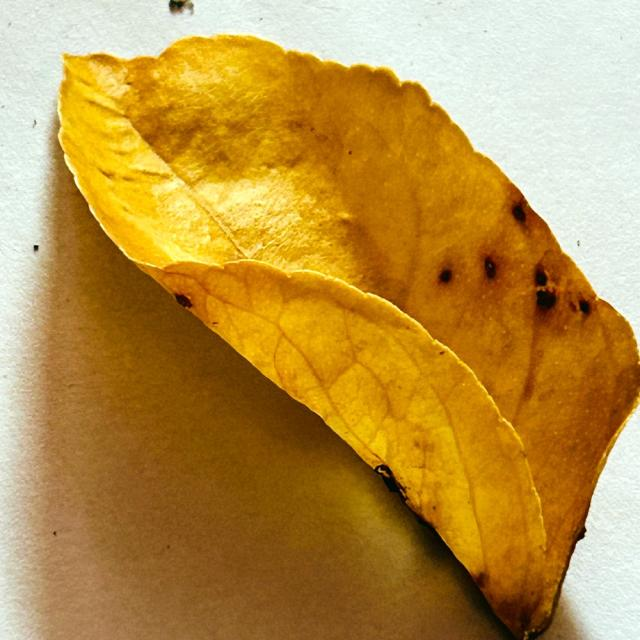DryLeaf_Lemon: (58, 35, 639, 639)
